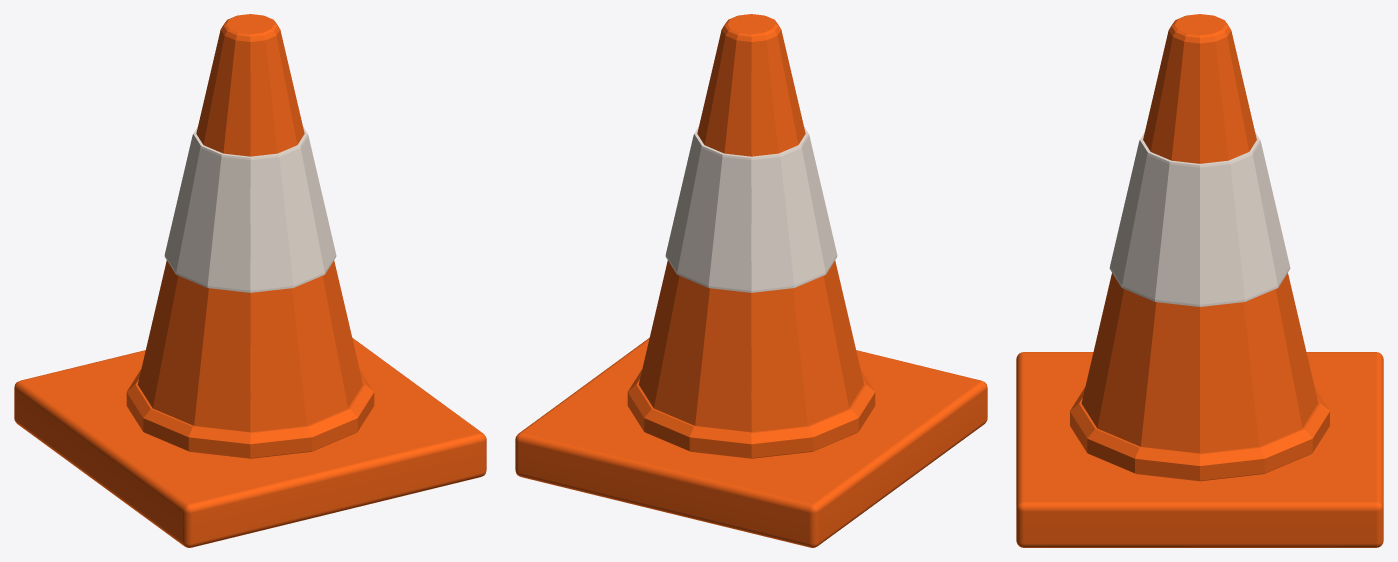
The model's file is prop.traffic-cone.glb.
3 views of the same model, side by side, from view 1: azimuth 30°, elevation 25°; view 2: azimuth 150°, elevation 25°; view 3: azimuth 270°, elevation 25° (orthographic). The views are drawn at different scales.
Parts seen in each view (by area): view 1: body, object 1; view 2: body, object 1; view 3: body, object 1.
Part boxes in pixels (box(x1,y1,x2,y2)): body: box(14, 14, 486, 547); object 1: box(164, 126, 336, 292); body: box(515, 14, 987, 547); object 1: box(665, 126, 837, 292); body: box(1016, 14, 1383, 547); object 1: box(1109, 132, 1290, 306).
Size of the model in its own units: 0.48 by 0.646 by 0.48.
